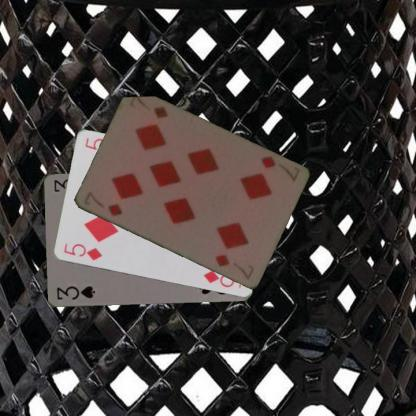3s: (54, 284, 96, 302)
5d: (61, 240, 103, 262)
7d: (258, 153, 301, 183), (81, 188, 123, 218)
